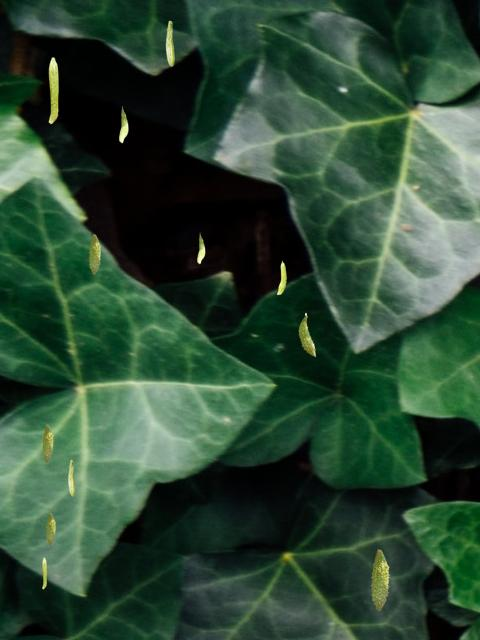ampalaya: (370, 549, 390, 611), (298, 312, 316, 357), (48, 57, 59, 124), (88, 233, 101, 275), (41, 424, 54, 463), (165, 20, 175, 66), (276, 260, 287, 295), (118, 105, 128, 143), (45, 512, 56, 545), (67, 459, 75, 496), (197, 232, 205, 264), (42, 557, 47, 589)
